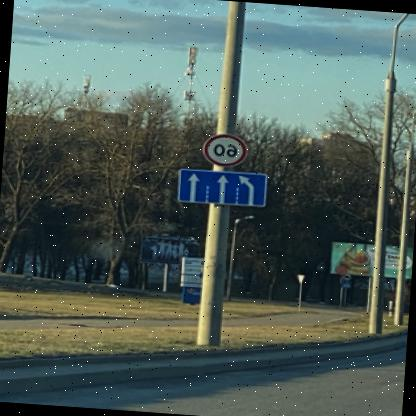crosswalk: (344, 279, 356, 287)
speedlimit: (204, 131, 251, 168)
